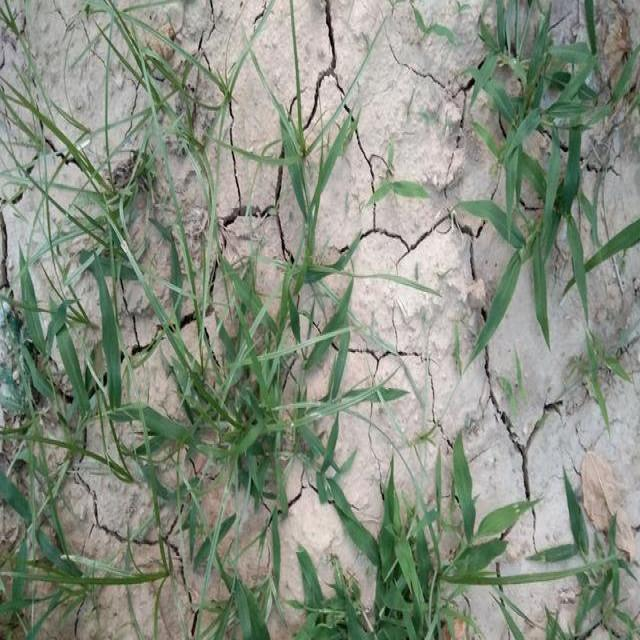weed: (90, 227, 360, 529), (314, 448, 640, 640), (465, 20, 640, 376), (51, 31, 344, 234)
